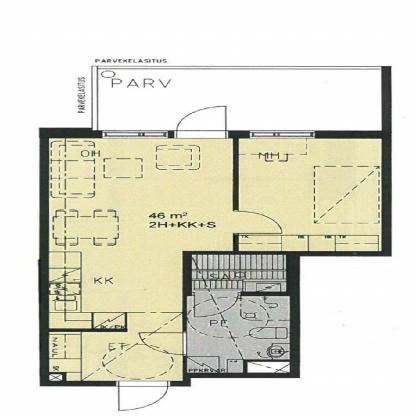door: (113, 379, 177, 413), (177, 103, 229, 140), (186, 289, 245, 318), (230, 210, 283, 236), (138, 332, 190, 355)
window: (248, 130, 314, 139), (98, 131, 162, 139)
zone: (46, 139, 236, 333), (98, 69, 379, 134), (237, 139, 380, 250), (192, 256, 289, 374), (44, 329, 194, 385)
